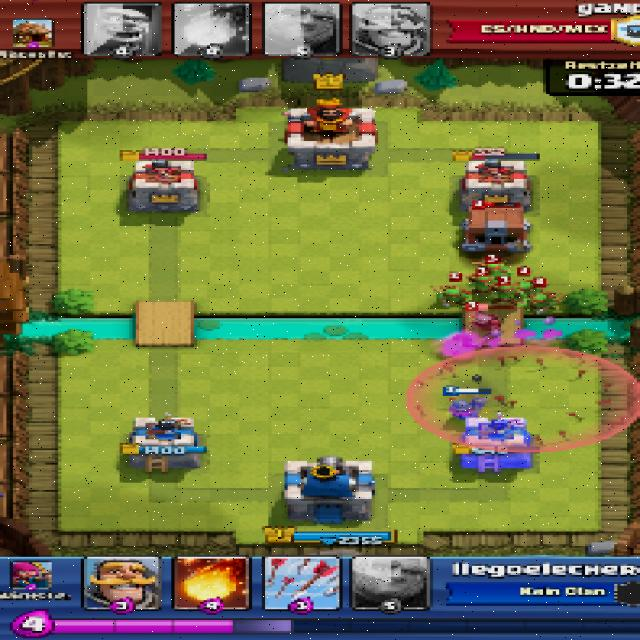Enemy-Archer: (404, 343, 640, 452)
Enemy-MiniPEKKA: (464, 311, 502, 336)
Enemy-SpearGoblin: (523, 294, 561, 312), (479, 262, 511, 283), (434, 286, 468, 302), (471, 273, 497, 293), (516, 279, 542, 298), (495, 284, 518, 302)
Player-GoblinCage: (458, 205, 535, 255)
Player-Musketeer: (445, 394, 487, 422)
